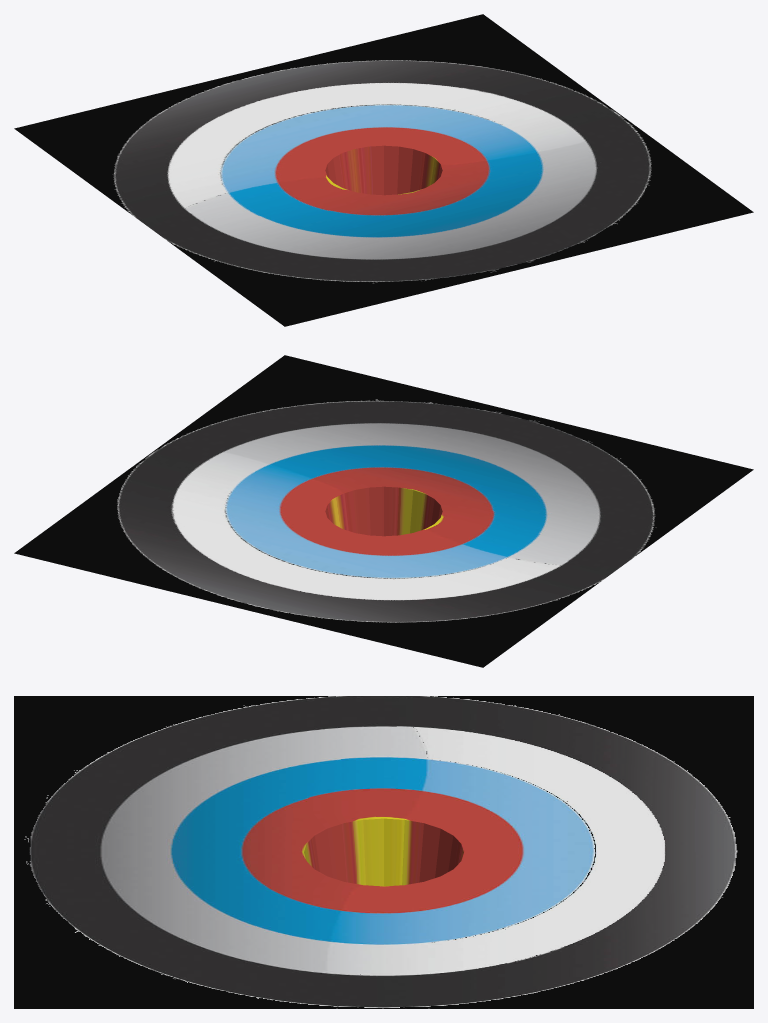
File: hole.glb
3 renders of one model, top to bottom at view 1: azimuth 30°, elevation 25°; view 2: azimuth 150°, elevation 25°; view 3: azimuth 270°, elevation 25°, orthographic. The views are drawn at different scales.
Visible parts, largest first — view 1: Plane; view 2: Plane; view 3: Plane.
Boxes of the visible parts, x1,y1,x2,y2 form: Plane: (14,14,753,326); Plane: (14,355,753,667); Plane: (14,696,753,1008).
Size of the model in its own units: 400 by 50.03 by 400.
1 material, 1 textured.
